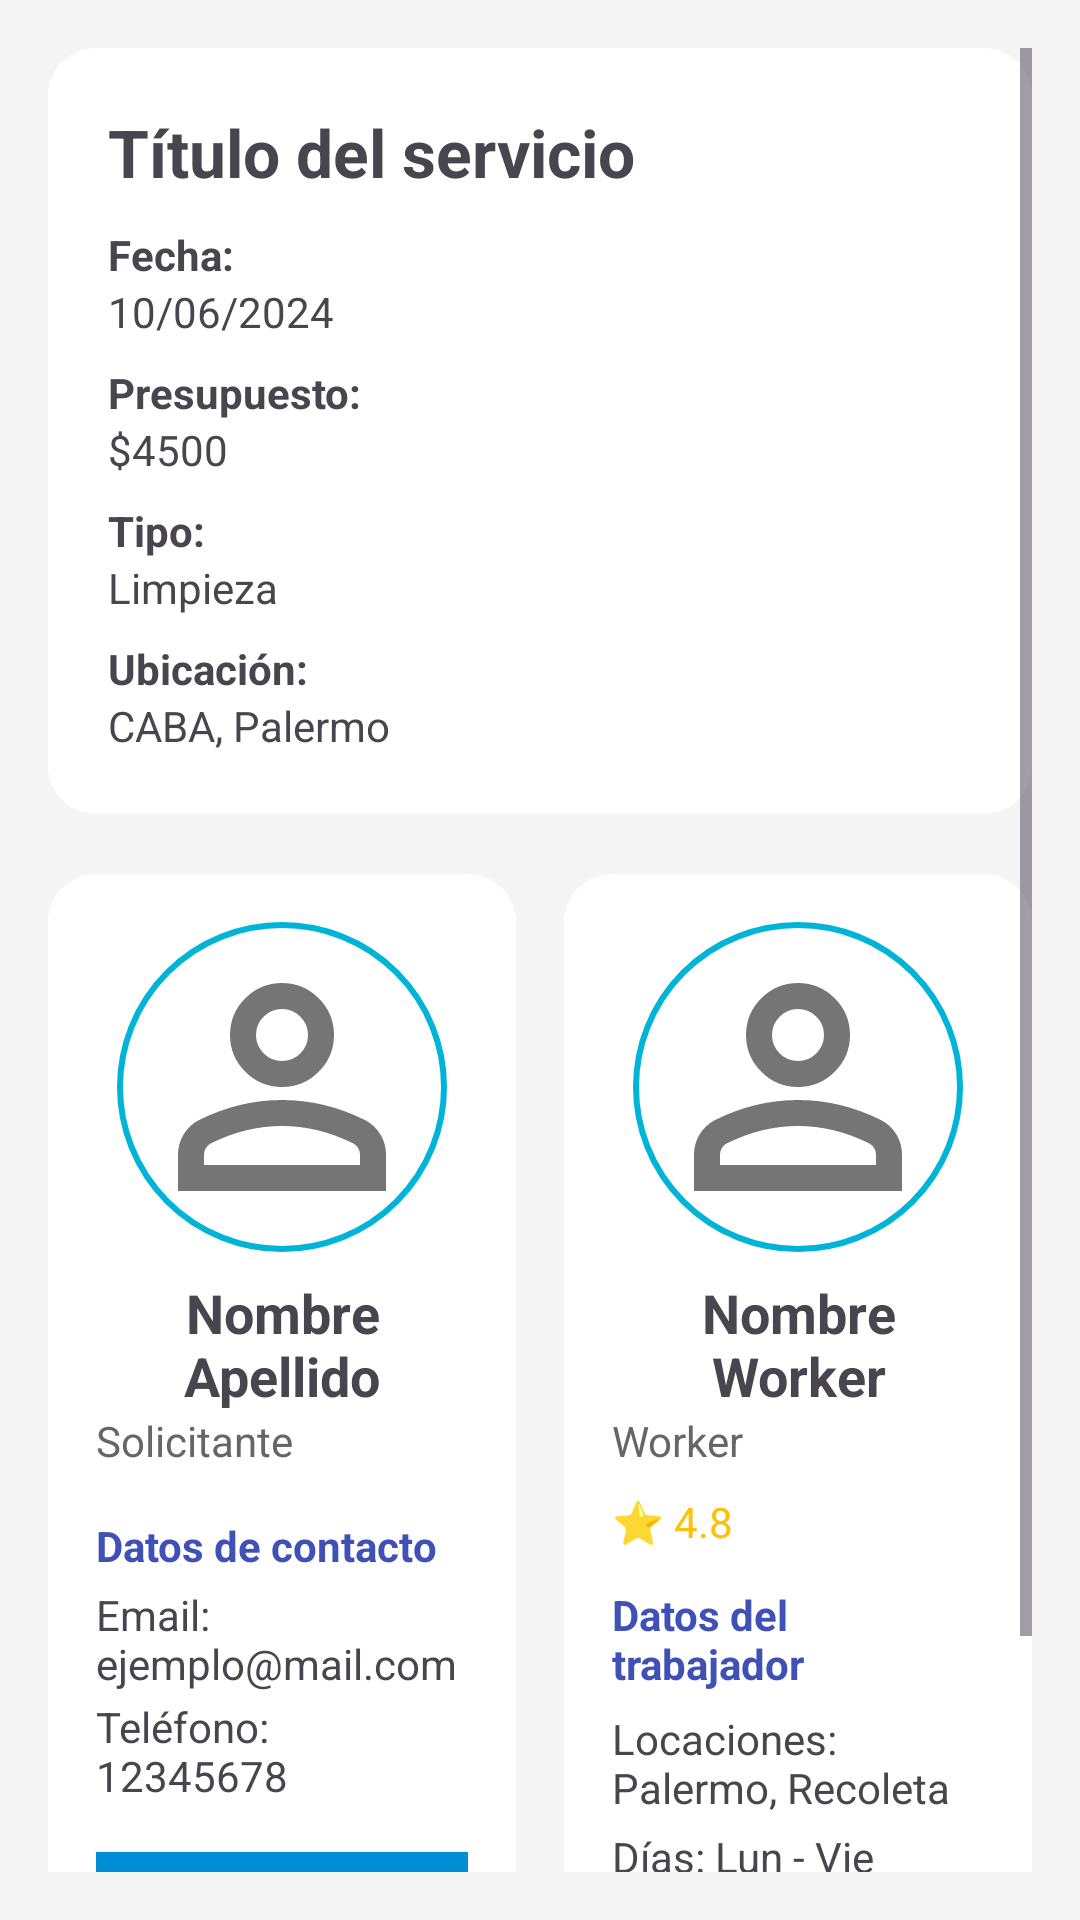

Screen size 1080*1920. Icon name, then its box in pixels as (x1, y1, x2, y2):
person: (117, 922, 447, 1252), (633, 922, 963, 1252)
